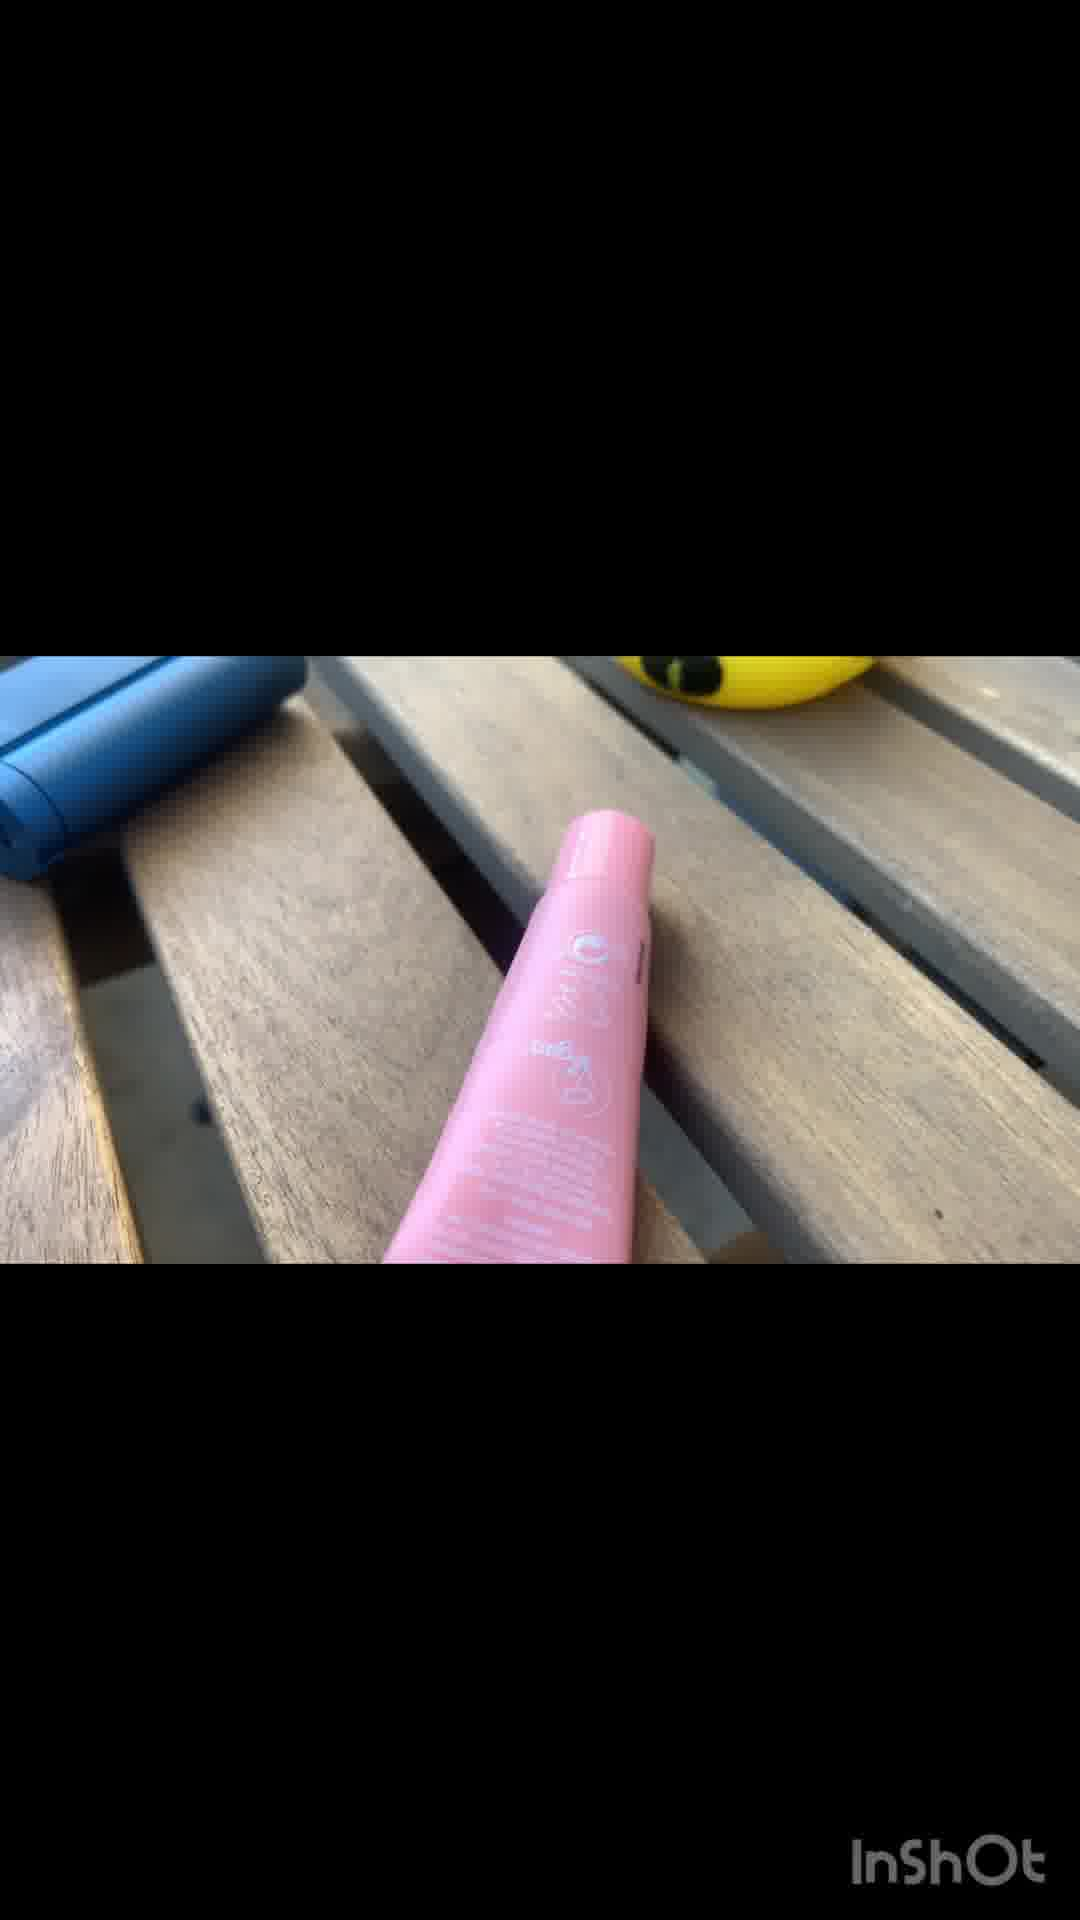duck: (611, 649, 882, 721)
glo: (3, 654, 305, 895)
lip balm: (372, 793, 687, 1262)
